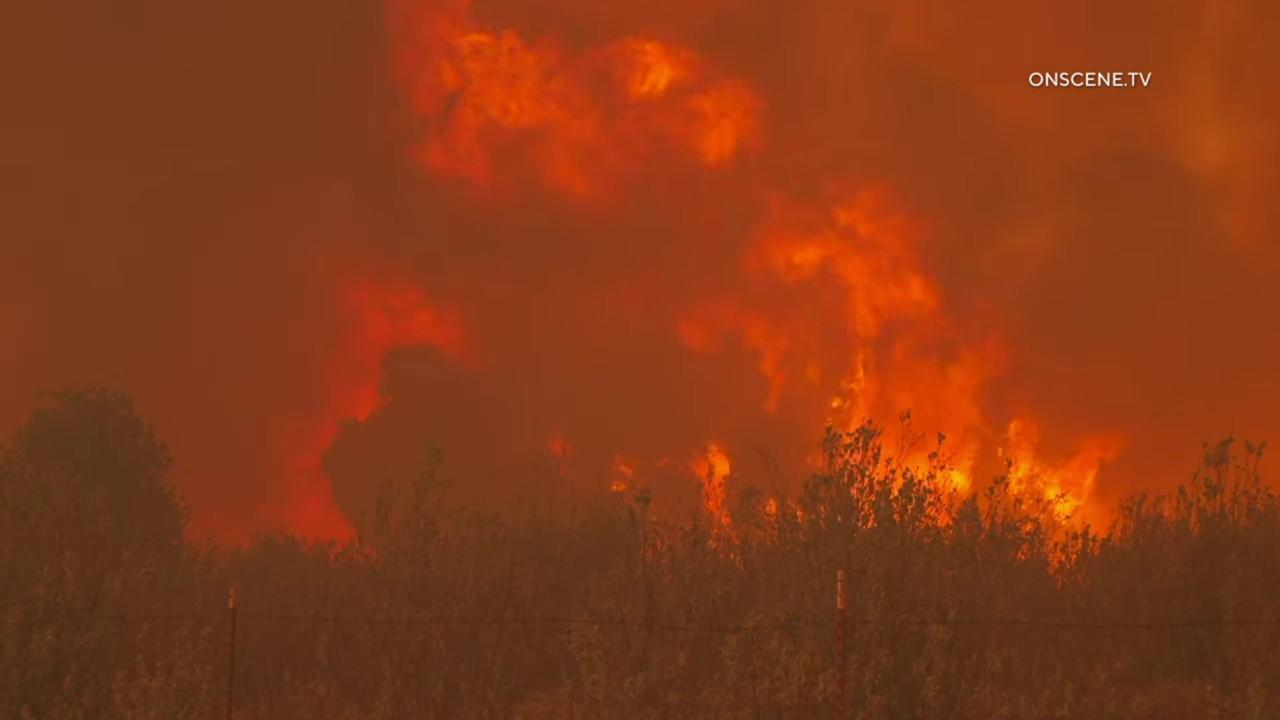fire: (745, 191, 1152, 587), (134, 256, 496, 570), (371, 0, 780, 221), (679, 434, 743, 572), (537, 429, 579, 480), (603, 453, 637, 498)
smoke: (0, 0, 1280, 720)
